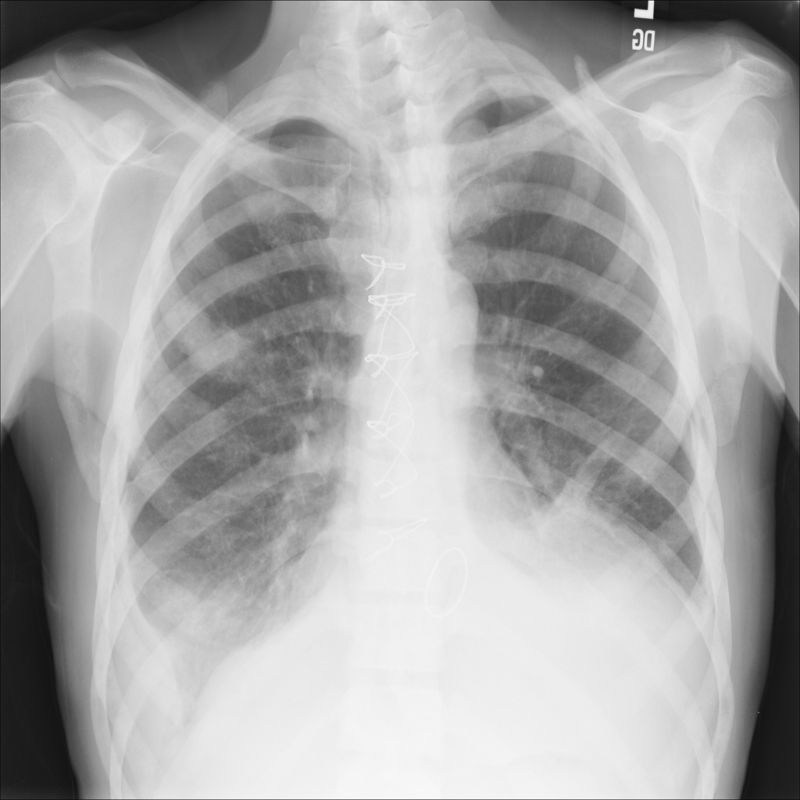PLEURAL EFFUSION: (97, 560, 210, 789)
